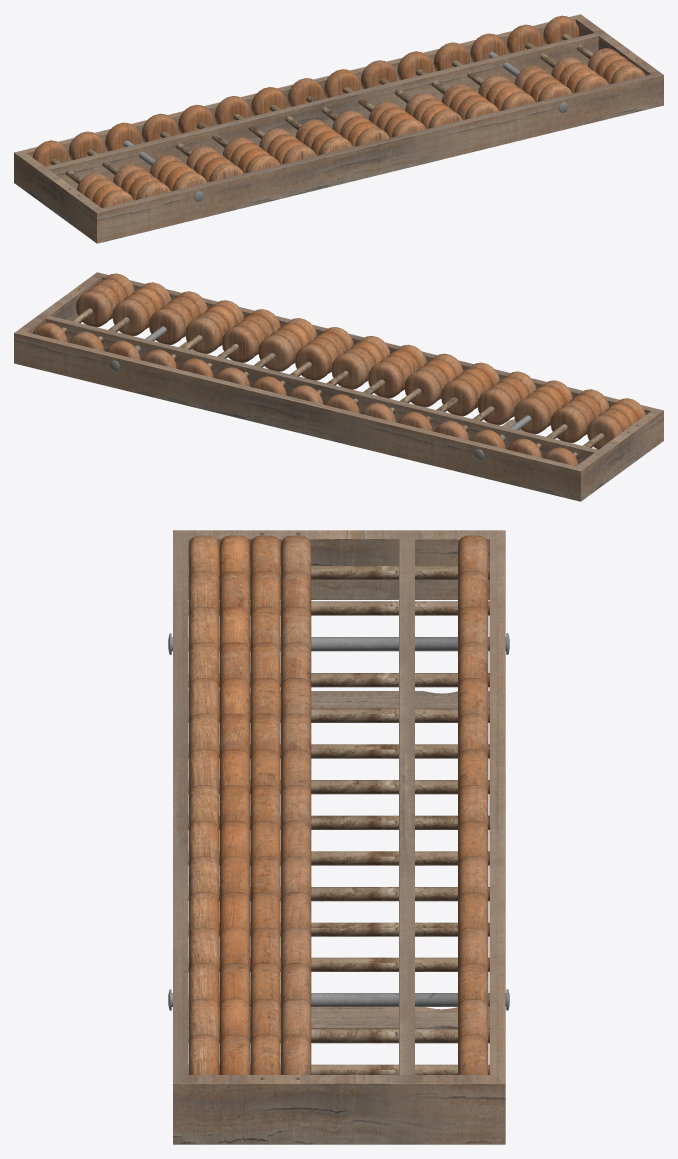
Rendered from abacus_decimal.fbx.
The picture shows the model from 3 angles, top to bottom: view 1: azimuth 30°, elevation 25°; view 2: azimuth 150°, elevation 25°; view 3: azimuth 270°, elevation 25°; orthographic projection. The views are drawn at different scales.
Visible parts, largest first — view 1: Frame, Bead, Pillar; view 2: Bead, Frame, Pillar; view 3: Bead, Frame, Pillar.
Boxes of the visible parts, x1,y1,x2,y2 form: Frame: [14, 14, 663, 243]; Bead: [32, 15, 645, 208]; Pillar: [50, 33, 593, 201]; Bead: [33, 273, 645, 466]; Frame: [14, 272, 663, 501]; Pillar: [61, 308, 604, 459]; Bead: [189, 535, 488, 1074]; Frame: [173, 530, 505, 1144]; Pillar: [168, 565, 509, 1074].
Bounding box in the file's own units: 2281 × 152 × 595.
